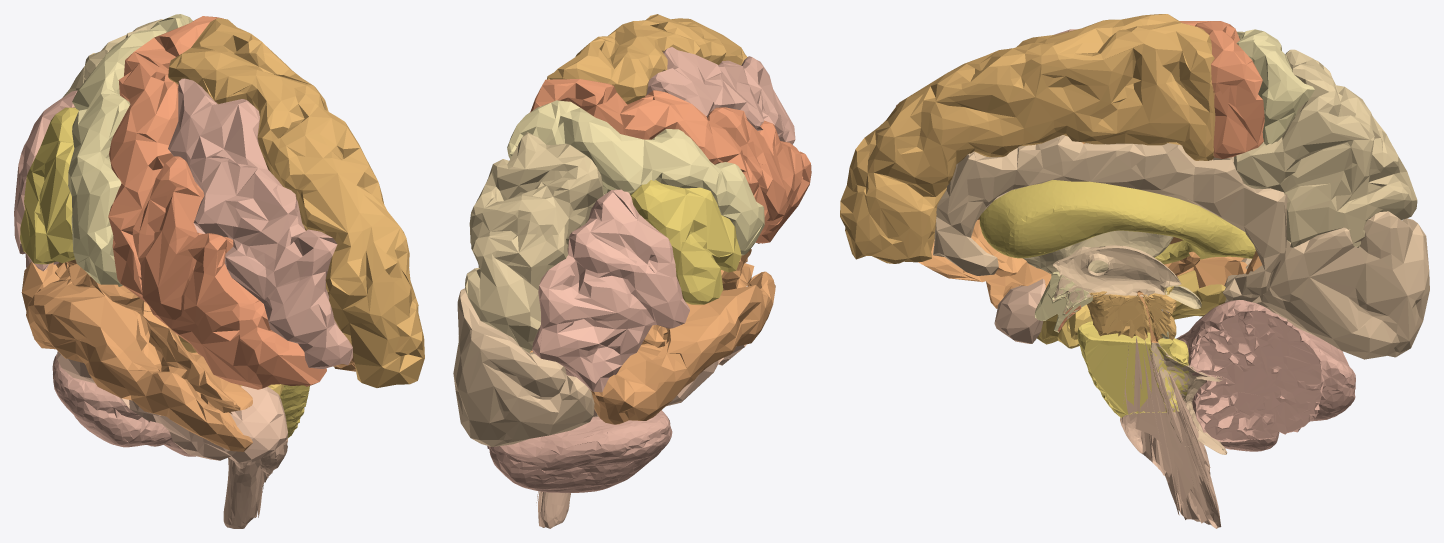
The model's file is cervello_interno.glb.
The picture shows the model from 3 angles, left to right: view 1: azimuth 30°, elevation 25°; view 2: azimuth 150°, elevation 25°; view 3: azimuth 270°, elevation 25°; orthographic projection. The views are drawn at different scales.
Visible parts, largest first — view 1: right superior frontal gyrus, right middle frontal gyrus, right inferior frontal gyrus, right middle temporal gyrus, right precentral gyrus, right postcentral gyrus, right supramarginal gyrus, subcortex of right cerebral hemisphere, right inferior temporal gyrus, cerebellum, medulla oblongata, right angular gyrus (+2 smaller); view 2: right angular gyrus, right superior parietal lobule, right occipital lobe, right postcentral gyrus, right middle temporal gyrus, cerebellum, right superior frontal gyrus, right supramarginal gyrus, right precentral gyrus, right middle frontal gyrus, right inferior frontal gyrus, subcortex of right cerebral hemisphere (+2 smaller); view 3: right superior frontal gyrus, right cingulate gyrus, cerebellum, right superior parietal lobule, right occipital lobe, right lateral ventricle, medulla oblongata, right precentral gyrus, pons, third ventricle, right postcentral gyrus, subcortex of right cerebral hemisphere (+7 smaller).
Boxes of the visible parts, bbox=[...] form: right superior frontal gyrus: bbox=[168, 18, 424, 387]; right middle frontal gyrus: bbox=[168, 78, 352, 368]; right inferior frontal gyrus: bbox=[132, 156, 326, 389]; right middle temporal gyrus: bbox=[21, 261, 252, 451]; right precentral gyrus: bbox=[108, 16, 223, 302]; right postcentral gyrus: bbox=[68, 14, 192, 286]; right supramarginal gyrus: bbox=[20, 107, 78, 264]; subcortex of right cerebral hemisphere: bbox=[55, 259, 355, 412]; right inferior temporal gyrus: bbox=[57, 351, 287, 463]; cerebellum: bbox=[52, 354, 195, 456]; medulla oblongata: bbox=[223, 439, 287, 528]; right angular gyrus: bbox=[14, 90, 77, 271]; right angular gyrus: bbox=[532, 189, 689, 392]; right superior parietal lobule: bbox=[465, 132, 604, 352]; right occipital lobe: bbox=[453, 288, 594, 446]; right postcentral gyrus: bbox=[507, 100, 764, 255]; right middle temporal gyrus: bbox=[590, 271, 775, 424]; cerebellum: bbox=[487, 410, 672, 492]; right superior frontal gyrus: bbox=[547, 14, 747, 104]; right supramarginal gyrus: bbox=[630, 180, 741, 304]; right precentral gyrus: bbox=[529, 79, 769, 222]; right middle frontal gyrus: bbox=[646, 47, 795, 144]; right inferior frontal gyrus: bbox=[707, 107, 811, 243]; subcortex of right cerebral hemisphere: bbox=[530, 249, 754, 352]; right superior frontal gyrus: bbox=[840, 14, 1215, 263]; right cingulate gyrus: bbox=[933, 135, 1287, 302]; cerebellum: bbox=[1176, 300, 1355, 451]; right superior parietal lobule: bbox=[1233, 49, 1417, 247]; right occipital lobe: bbox=[1252, 211, 1429, 359]; right lateral ventricle: bbox=[979, 180, 1255, 263]; medulla oblongata: bbox=[1120, 337, 1221, 528]; right precentral gyrus: bbox=[1179, 21, 1264, 158]; pons: bbox=[1077, 321, 1189, 417]; third ventricle: bbox=[1052, 245, 1181, 314]; right postcentral gyrus: bbox=[1236, 29, 1314, 145]; subcortex of right cerebral hemisphere: bbox=[918, 86, 1262, 288].
Bounding box in the file's own units: 69.42 × 165 × 180.
